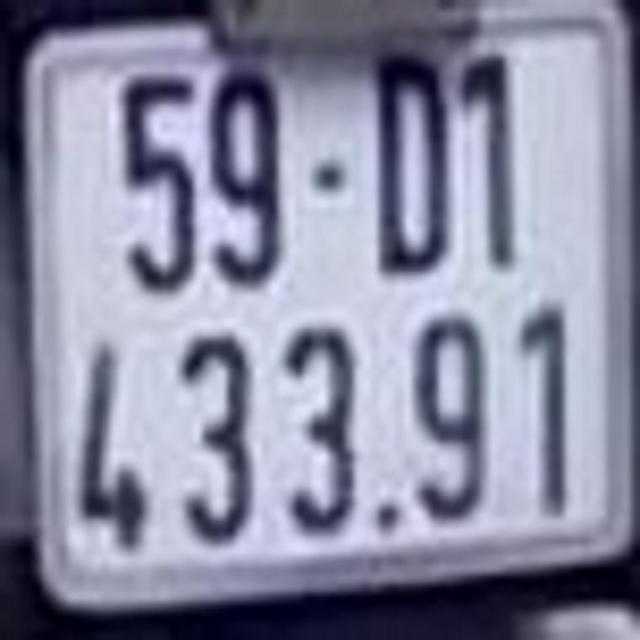1: (458, 43, 530, 272), (510, 290, 581, 521)
3: (277, 316, 358, 542), (174, 326, 253, 548)
4: (72, 331, 146, 567)
5: (112, 70, 202, 294)
9: (406, 306, 486, 525), (208, 70, 283, 296)
D: (371, 52, 454, 282)
